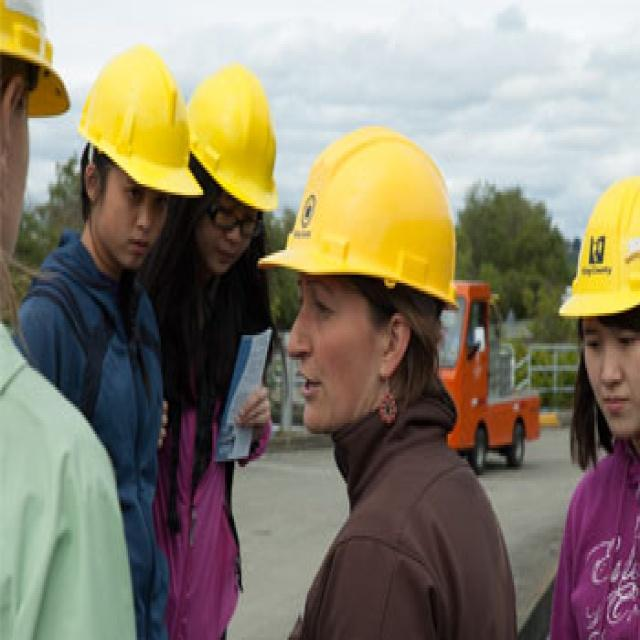helmet: (259, 168, 456, 571), (75, 56, 201, 364), (560, 226, 640, 578), (185, 88, 284, 363), (2, 4, 73, 348)
